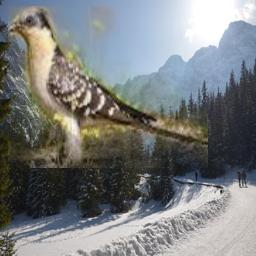Cuckoo: (8, 6, 208, 168)
